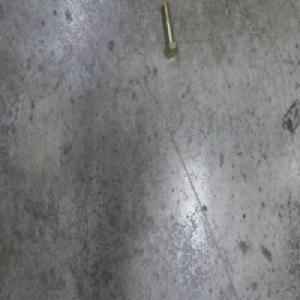Bolt: (161, 1, 179, 58)
